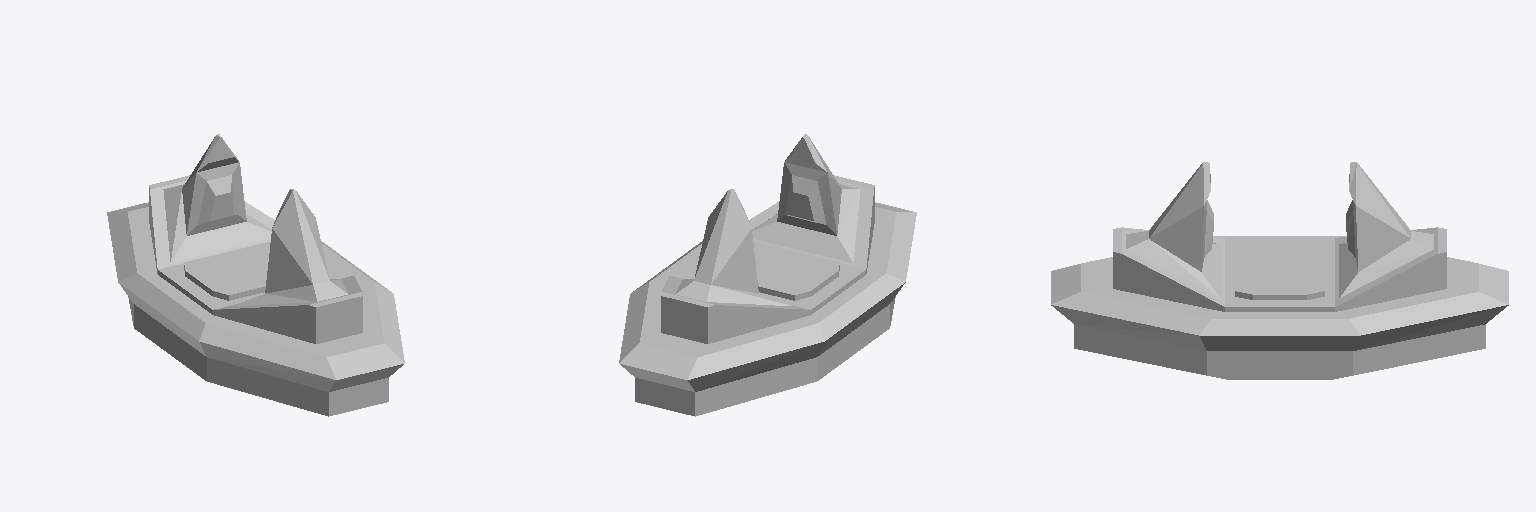
Rendered from teleporter.obj.
3 views of the same model, side by side, from view 1: azimuth 30°, elevation 25°; view 2: azimuth 150°, elevation 25°; view 3: azimuth 270°, elevation 25° (orthographic).
Visible parts, largest first — view 1: Cube; view 2: Cube; view 3: Cube.
Part boxes in pixels (left/top/right/bottom): Cube: left=107, top=134, right=404, bottom=416; Cube: left=619, top=134, right=916, bottom=416; Cube: left=1051, top=162, right=1508, bottom=379.
Size of the model in its own units: 2 by 1.84 by 4.08.